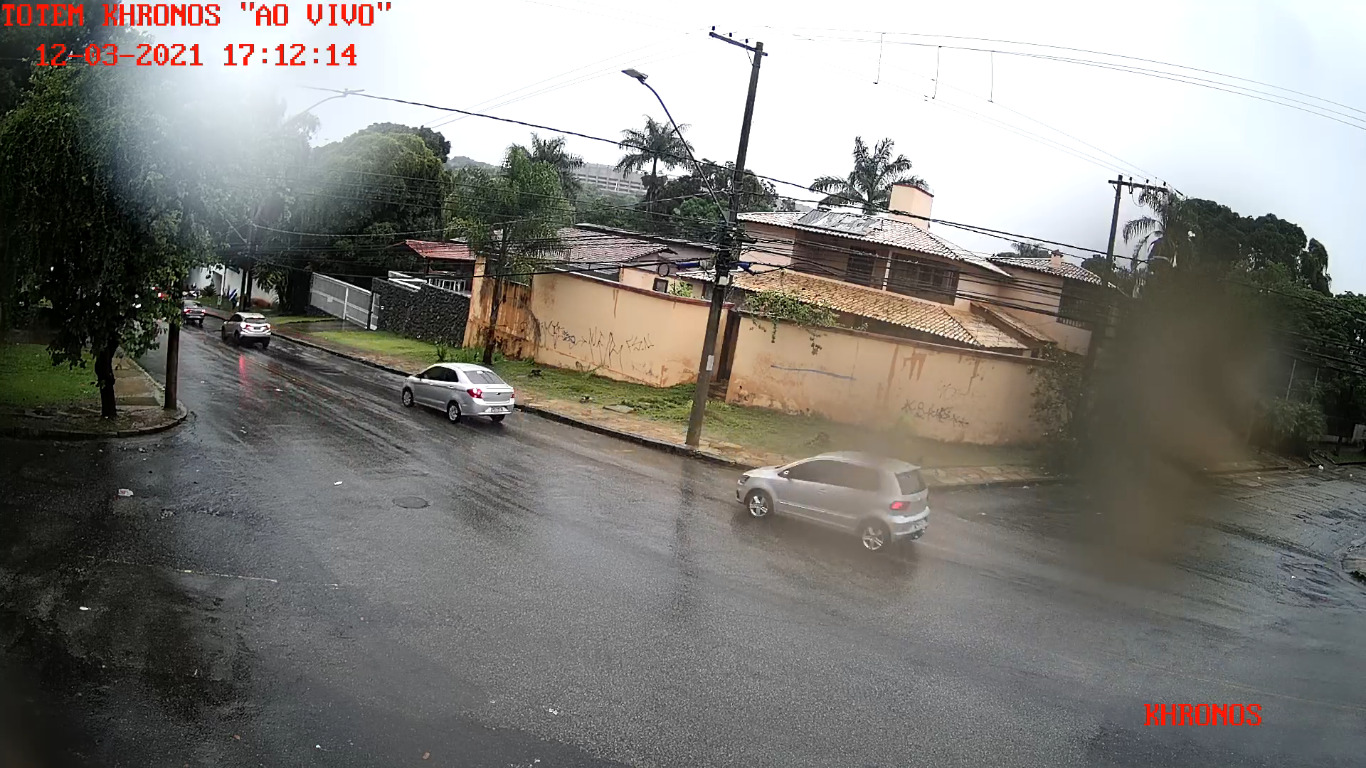car: (734, 448, 932, 552), (403, 363, 515, 422)
